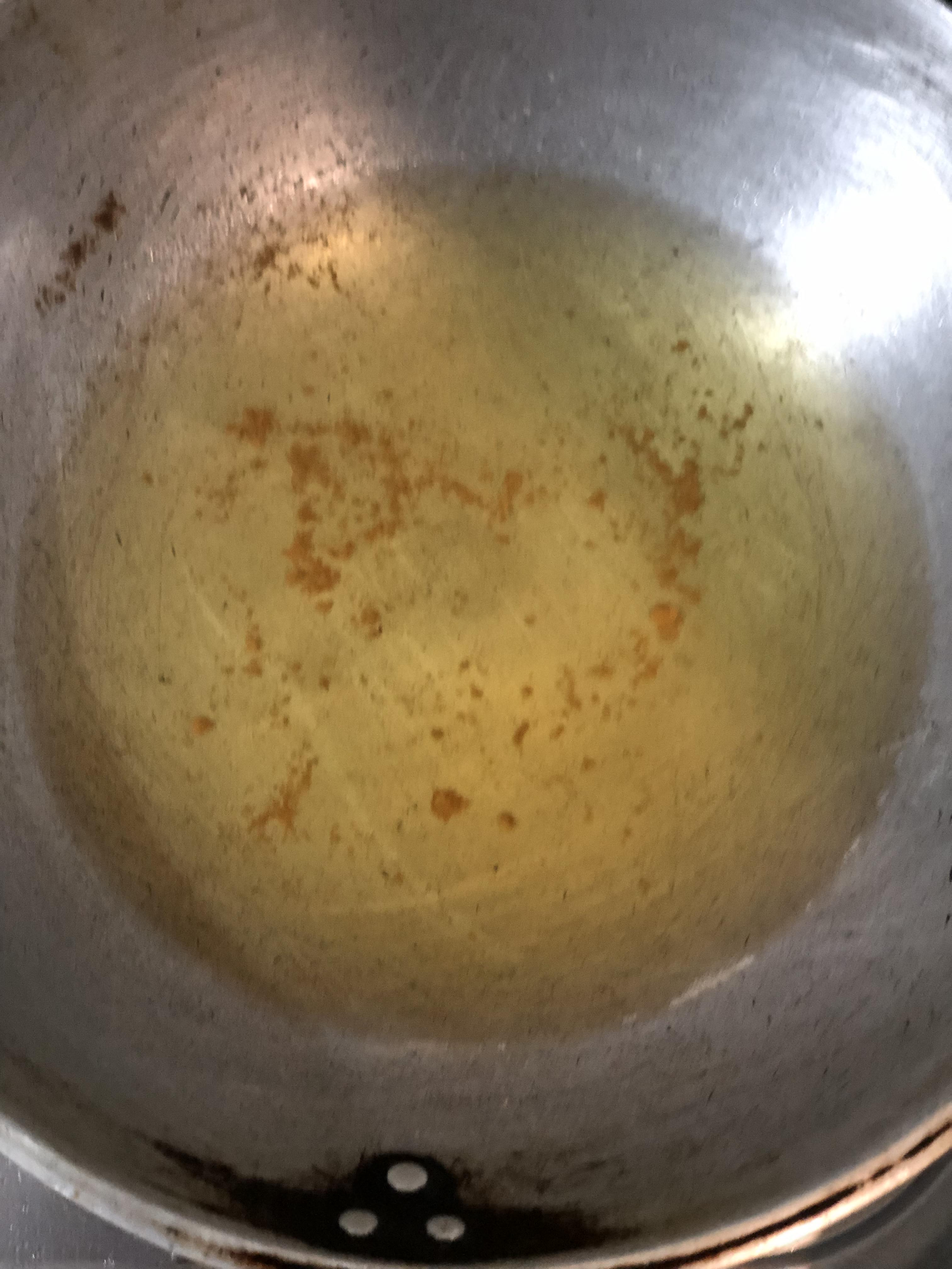reusable: (25, 170, 907, 1042)
